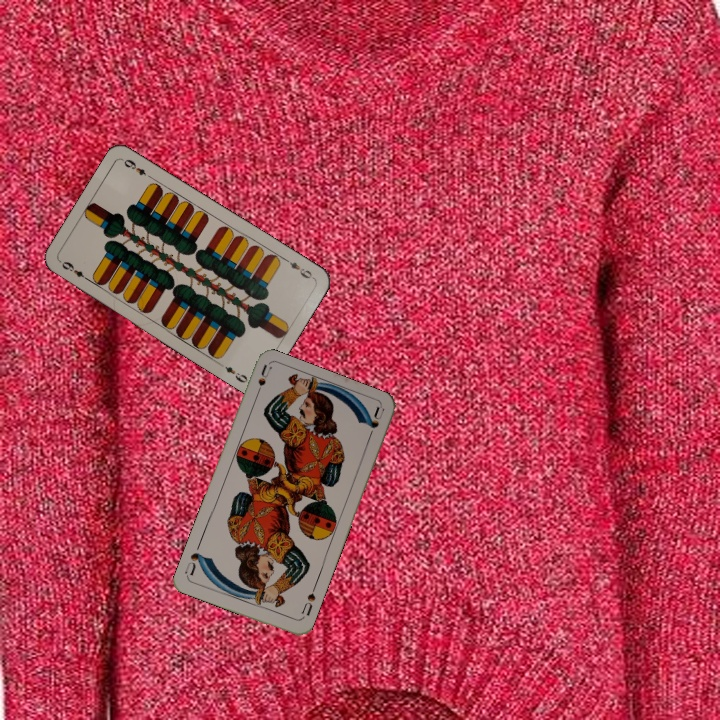E9: (280, 254, 316, 282), (57, 257, 93, 284)
SU: (250, 362, 274, 402), (297, 582, 318, 622)
